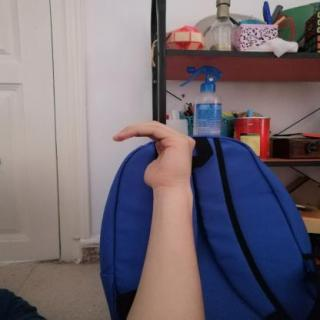HAA: (105, 114, 203, 194)
